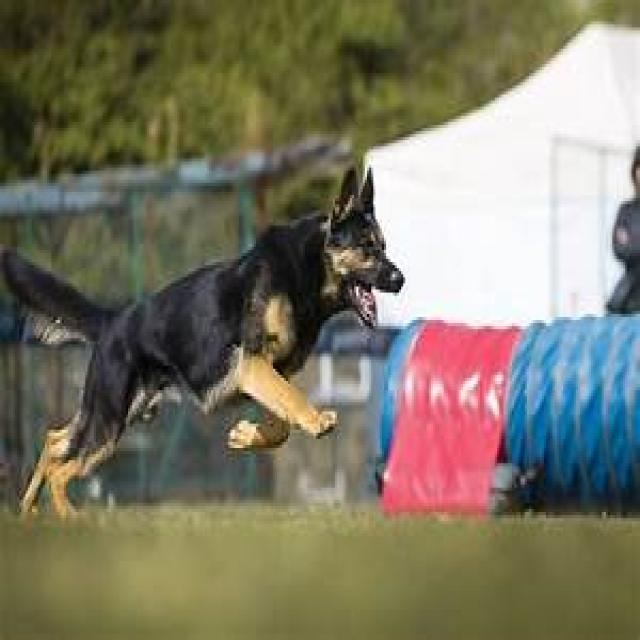dog: (0, 170, 404, 515)
